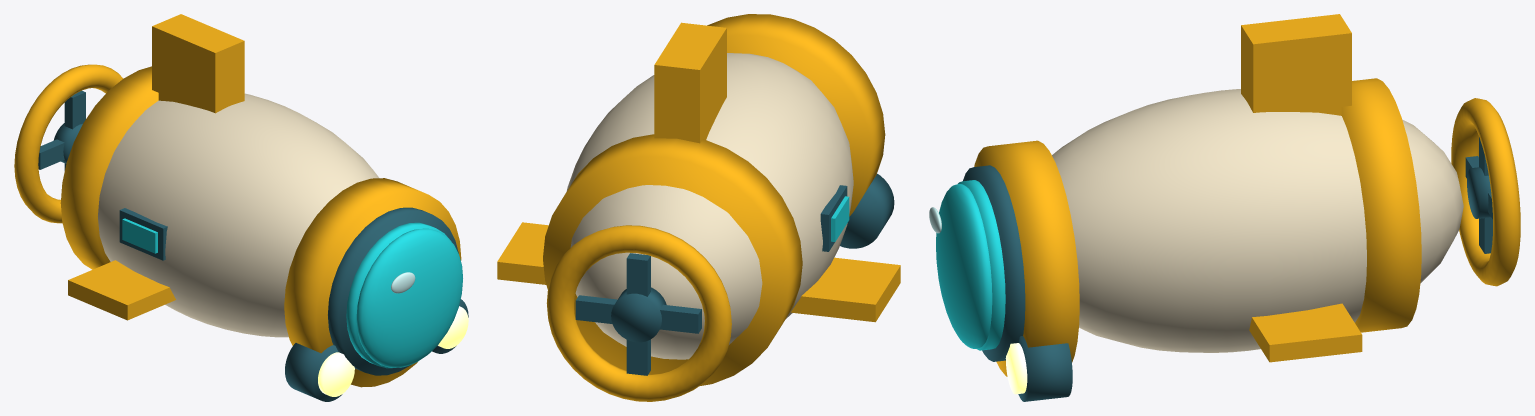
File: submarine.glb
The picture shows the model from 3 angles, left to right: view 1: azimuth 30°, elevation 25°; view 2: azimuth 150°, elevation 25°; view 3: azimuth 270°, elevation 25°; orthographic projection. The views are drawn at different scales.
Parts seen in each view (by area): view 1: Submarine hull, Domed glass, Nose rim, Rear golden hull band, Top fin, Open propeller ring, Window frame, Side fin, Cyan window, Lamp housing, Lamp lens, Sub side panel bezel (+5 smaller); view 2: Submarine hull, Rear golden hull band, Open propeller ring, Nose rim, Top fin, Side fin, Side fin.001, Lamp housing, Propeller hub, Propeller blade, Propeller blade.001, Sub side panel bezel (+1 smaller); view 3: Submarine hull, Rear golden hull band, Nose rim, Top fin, Open propeller ring, Domed glass, Side fin.001, Window frame, Lamp housing.001, Cyan window, Propeller hub, Lamp lens.001 (+1 smaller).
Part boxes in pixels (x1,y1,x2,y2): Submarine hull: [98, 93, 379, 337]; Domed glass: [356, 228, 462, 367]; Nose rim: [284, 178, 461, 387]; Rear golden hull band: [60, 66, 158, 269]; Top fin: [152, 14, 244, 113]; Open propeller ring: [14, 64, 123, 223]; Window frame: [328, 207, 458, 375]; Side fin: [68, 260, 175, 320]; Cyan window: [346, 222, 450, 368]; Lamp housing: [285, 343, 342, 401]; Lamp lens: [318, 352, 354, 396]; Sub side panel bezel: [119, 208, 167, 260]; Submarine hull: [566, 53, 853, 359]; Rear golden hull band: [543, 134, 802, 386]; Open propeller ring: [546, 225, 731, 401]; Nose rim: [707, 14, 885, 216]; Top fin: [654, 22, 726, 143]; Side fin: [790, 257, 900, 322]; Side fin.001: [497, 222, 548, 284]; Lamp housing: [840, 173, 894, 248]; Propeller hub: [611, 287, 666, 342]; Propeller blade: [575, 295, 701, 333]; Propeller blade.001: [626, 253, 650, 375]; Sub side panel bezel: [820, 185, 847, 251]; Submarine hull: [1052, 89, 1463, 352]; Rear golden hull band: [1341, 78, 1421, 332]; Nose rim: [974, 140, 1079, 376]; Top fin: [1241, 14, 1351, 115]; Open propeller ring: [1451, 98, 1520, 286]; Domed glass: [936, 184, 992, 348]; Side fin.001: [1249, 303, 1362, 362]; Window frame: [963, 165, 1025, 361]; Lamp housing.001: [1018, 336, 1072, 401]; Cyan window: [958, 180, 1005, 350]; Propeller hub: [1467, 167, 1490, 218]; Lamp lens.001: [1005, 343, 1027, 394].
Bounding box in the file's own units: 2.34 × 1.98 × 3.47.
